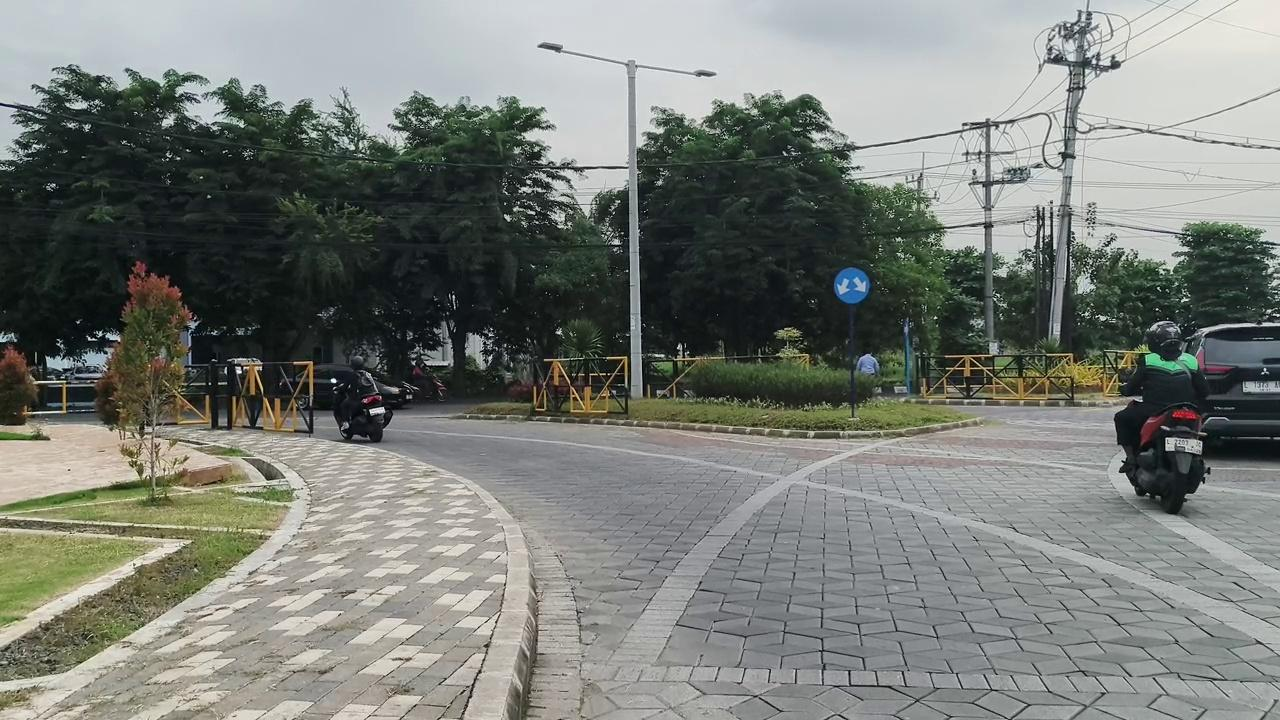Helmet: (1114, 321, 1208, 473), (339, 356, 372, 430)
Motor: (1128, 404, 1208, 513), (333, 379, 393, 441), (427, 375, 447, 402)
